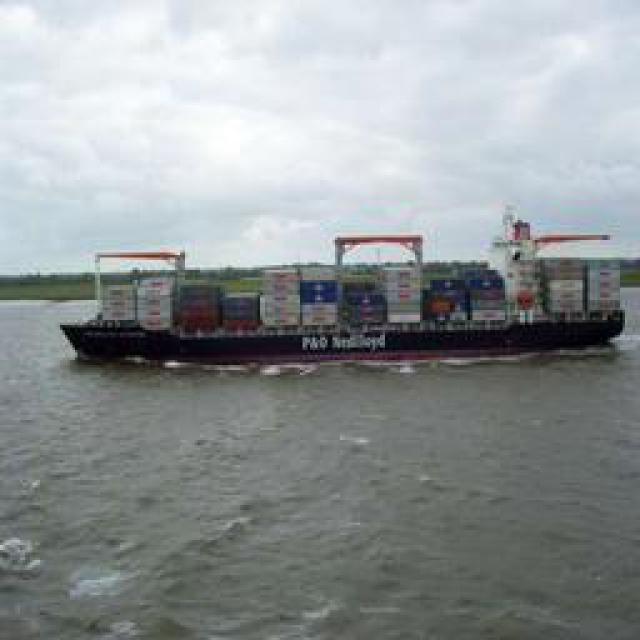Ship: (54, 216, 632, 379)
